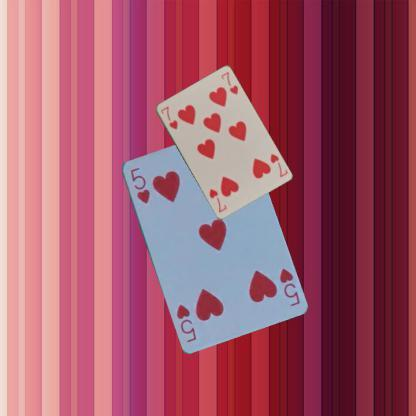5h: (276, 266, 301, 308), (127, 164, 150, 206)
7h: (267, 150, 289, 178), (158, 104, 178, 130)
